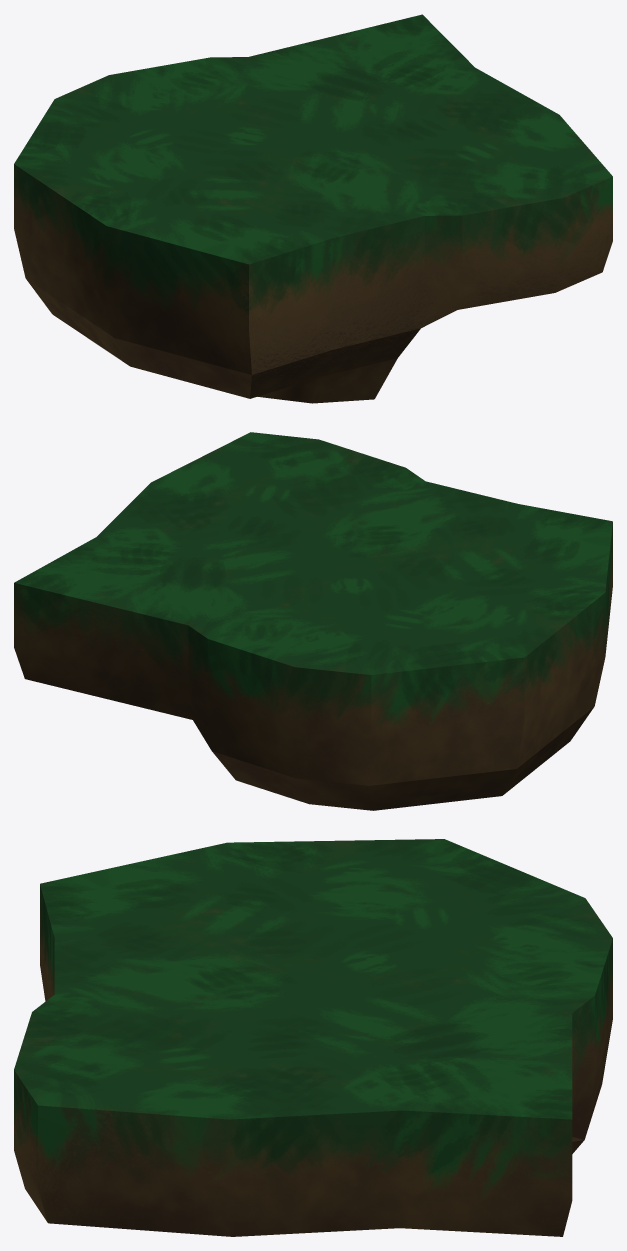
The model's file is Fantasy_Left_Forest_Platform_Unchecked_ME.fbx.
The picture shows the model from 3 angles, top to bottom: view 1: azimuth 30°, elevation 25°; view 2: azimuth 150°, elevation 25°; view 3: azimuth 270°, elevation 25°; orthographic projection. The views are drawn at different scales.
Parts seen in each view (by area): view 1: ForestLeft; view 2: ForestLeft; view 3: ForestLeft.
Boxes of the visible parts, <box> form: ForestLeft: <box>14,14,612,403</box>; ForestLeft: <box>14,432,612,810</box>; ForestLeft: <box>14,839,612,1236</box>.
Bounding box in the file's own units: 159 × 144 × 65.11.
Materials: 1 (1 with a texture image).
